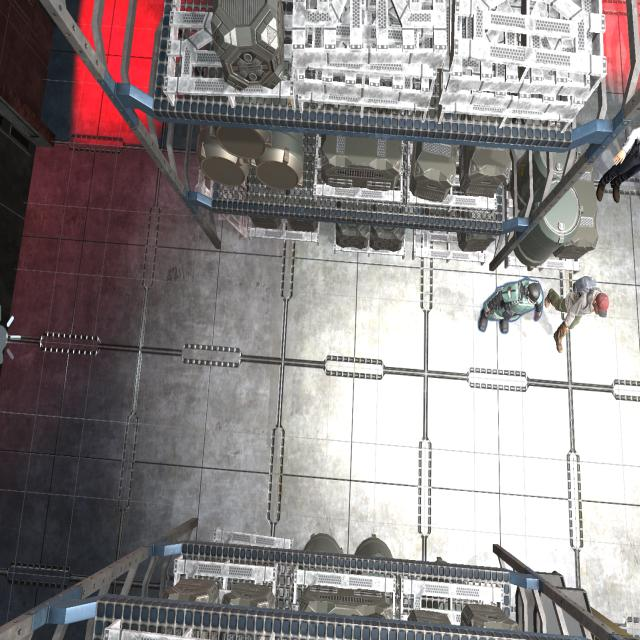thiefs: (544, 274, 613, 362)
